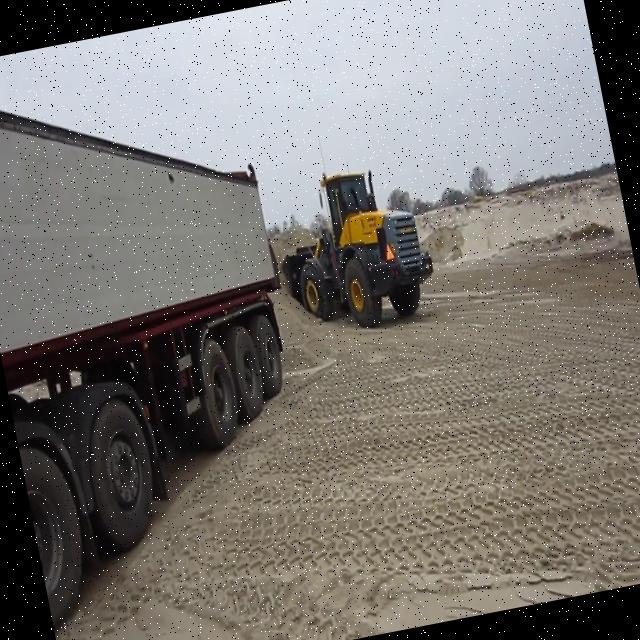Dump Truck: (0, 36, 339, 635)
Loader: (261, 138, 442, 342)
